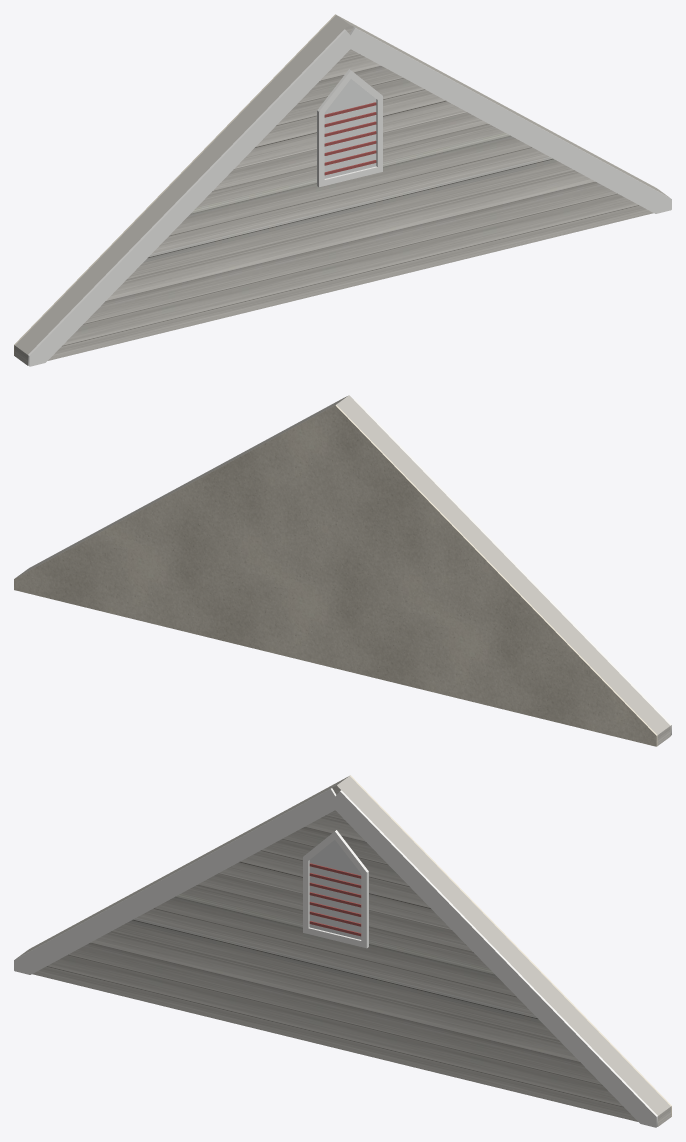
File: wing_gable.glb
3 views of the same model, one above another, from view 1: azimuth 30°, elevation 25°; view 2: azimuth 150°, elevation 25°; view 3: azimuth 330°, elevation 25° (orthographic).
Visible parts, largest first — view 1: wing_gable_siding, wing_gable_trim, wing_gable_vent, wing_gable_shutter_dark, wing_gable_plaster; view 2: wing_gable_plaster, wing_gable_siding, wing_gable_trim; view 3: wing_gable_siding, wing_gable_trim, wing_gable_vent, wing_gable_shutter_dark, wing_gable_plaster.
Part boxes in pixels (left/top/right/bottom): wing_gable_siding: left=15, top=15, right=669, bottom=365; wing_gable_trim: left=28, top=27, right=671, bottom=366; wing_gable_vent: left=324, top=79, right=376, bottom=178; wing_gable_shutter_dark: left=324, top=102, right=376, bottom=175; wing_gable_plaster: left=14, top=14, right=653, bottom=355; wing_gable_plaster: left=14, top=405, right=657, bottom=746; wing_gable_siding: left=16, top=395, right=670, bottom=745; wing_gable_trim: left=29, top=397, right=671, bottom=735; wing_gable_siding: left=16, top=776, right=670, bottom=1126; wing_gable_trim: left=14, top=788, right=657, bottom=1127; wing_gable_vent: left=309, top=840, right=361, bottom=939; wing_gable_shutter_dark: left=309, top=863, right=361, bottom=936; wing_gable_plaster: left=32, top=775, right=671, bottom=1116.
Size of the model in its own units: 8 by 3.13 by 0.34.
5 materials, 2 textured.
